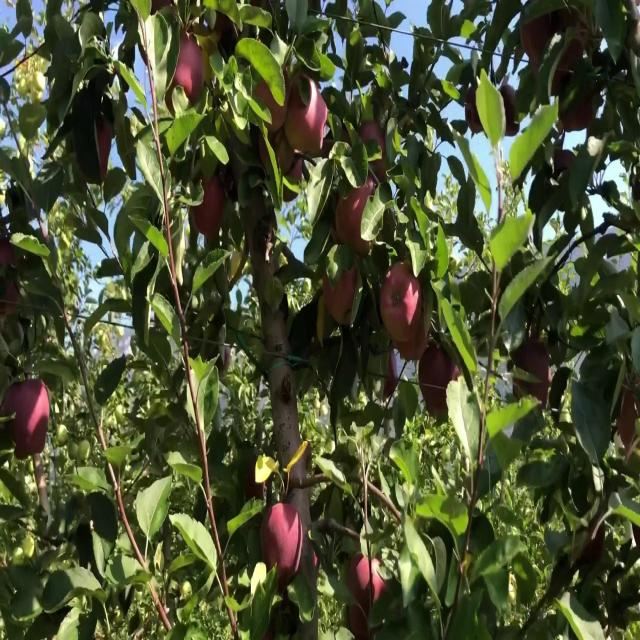apple: (4, 376, 52, 460), (336, 177, 381, 256), (380, 263, 423, 343), (260, 504, 303, 581), (288, 78, 328, 158), (552, 14, 590, 98), (336, 184, 376, 258), (392, 291, 429, 363), (172, 35, 207, 107), (192, 177, 228, 240), (324, 263, 359, 325), (520, 14, 555, 75), (520, 341, 552, 407), (360, 120, 388, 183), (256, 78, 288, 133), (420, 348, 451, 396), (396, 319, 429, 364), (264, 78, 291, 133), (560, 94, 596, 135), (616, 391, 640, 448), (348, 554, 375, 603), (96, 120, 114, 178), (280, 142, 304, 183), (504, 85, 521, 140), (464, 92, 484, 135), (348, 604, 372, 639), (248, 462, 269, 501), (424, 391, 449, 421), (372, 561, 387, 608), (4, 277, 21, 318), (0, 241, 19, 268), (152, 7, 175, 16)
